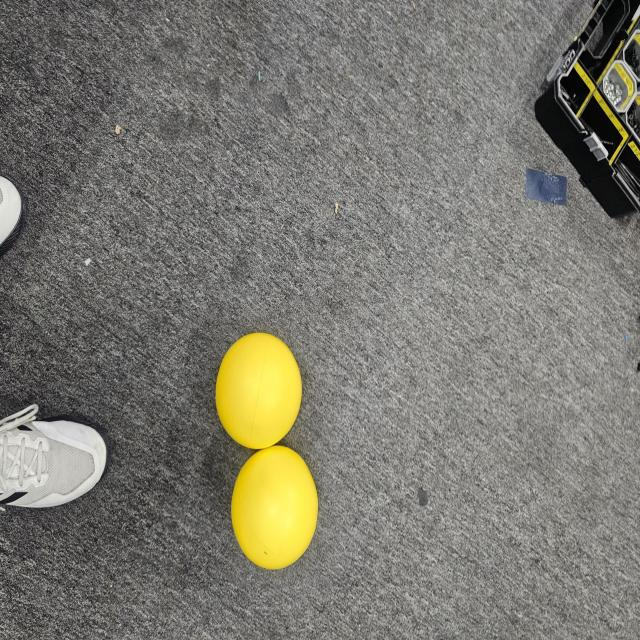Fuel: (231, 436, 322, 578), (210, 327, 307, 449)
